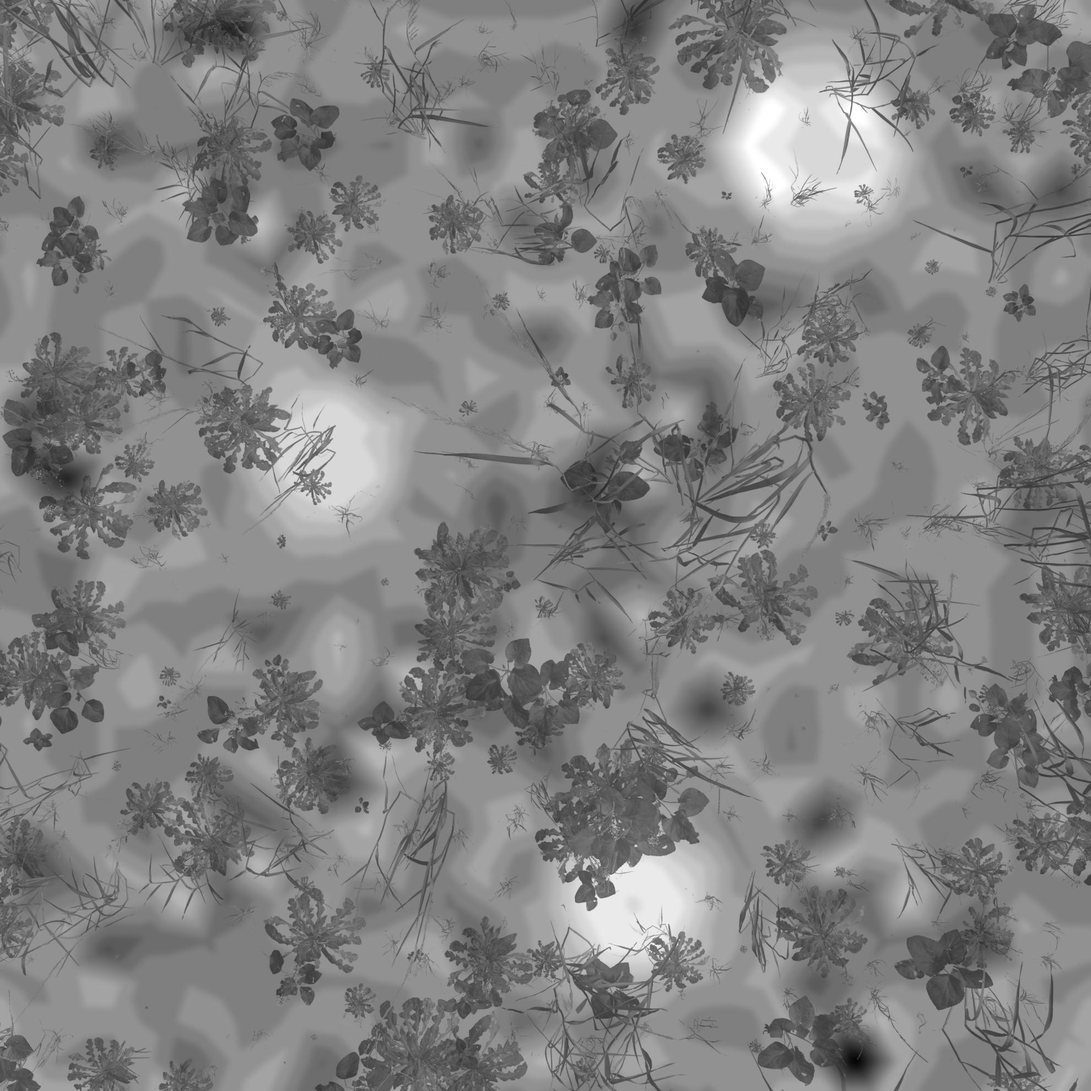landmine: (543, 807, 718, 973), (729, 60, 885, 223), (253, 387, 386, 523)
